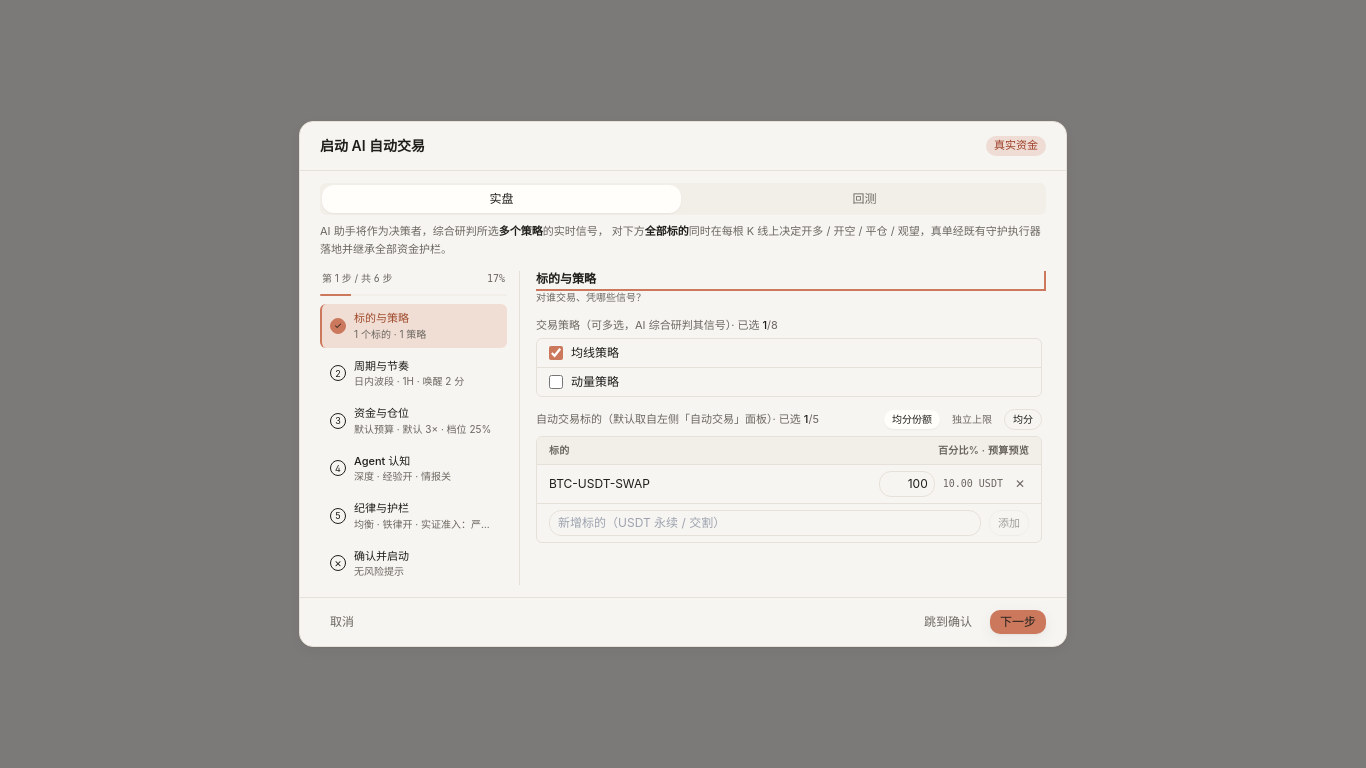
Test: 轴 B · 导航契约 › W-19 aria-live 播报「第 N 步，共 6 步」；且刷新后的首启（未勾知情）仍有「跳到确认」
Check: the text "均线策略" is shown, box [571,345,619,361]
Step 1. Press ArrowRight
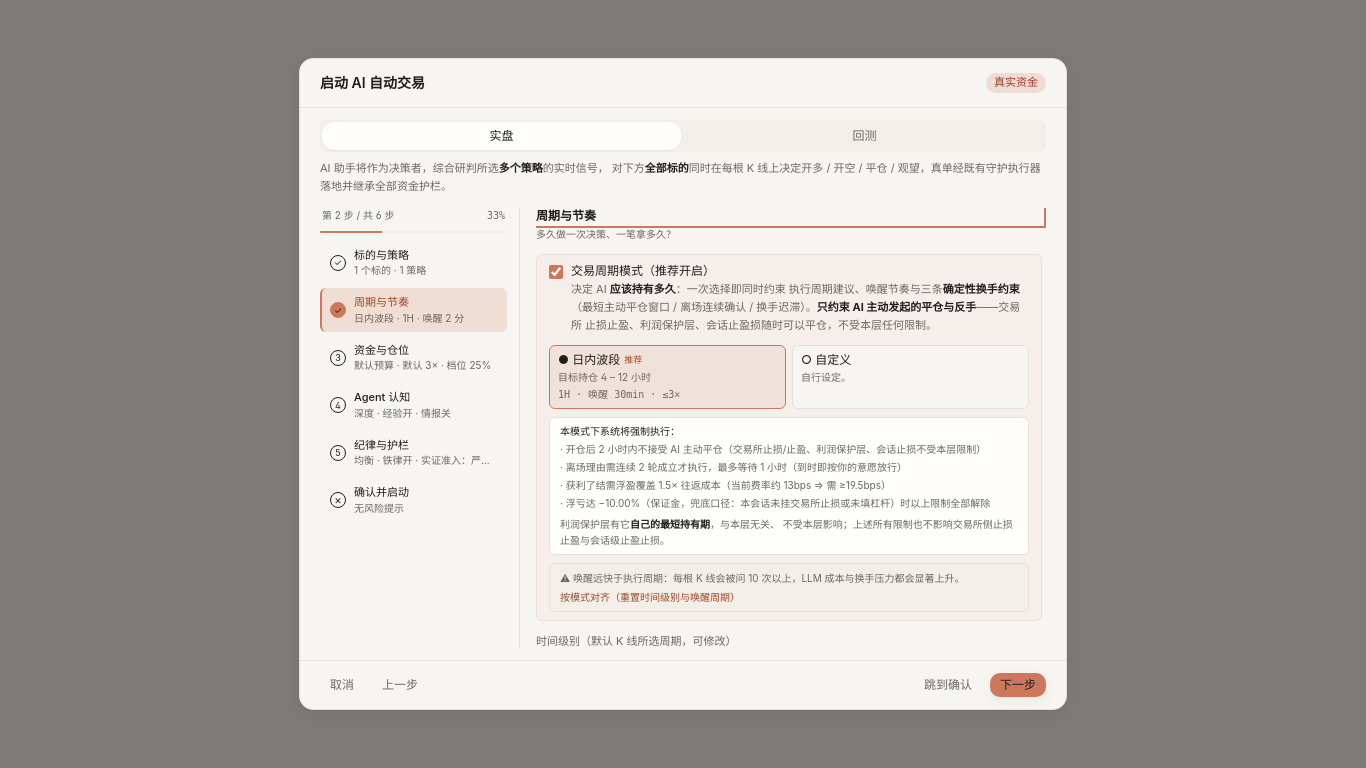
Step 2. Click the button "跳到确认" → click(948, 685), box [914,673,982,697]
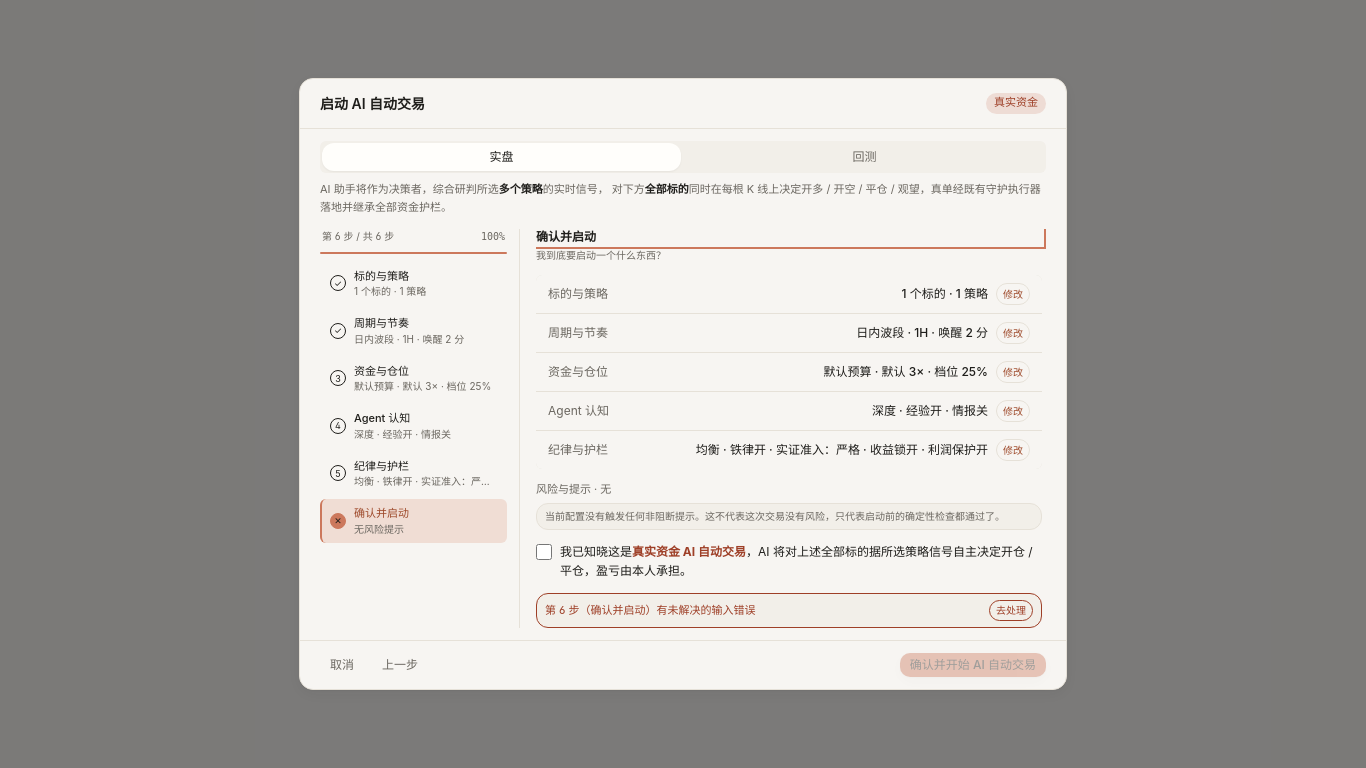
Check: the heading "确认并启动" is shown, box [536,229,596,244]
